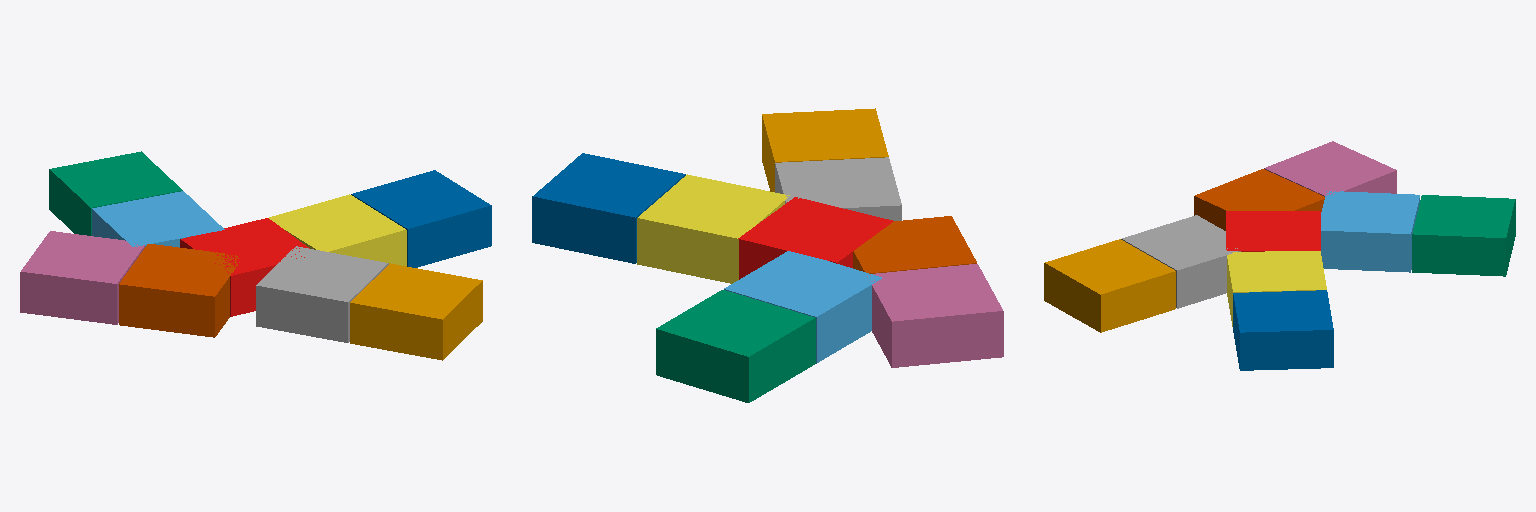
The robot description file, URDF, robot "Model_Models/Model_140.urdf41":
<?xml version='1.0' encoding='UTF-8'?>
<robot name="Model_Models/Model_140.urdf41">
  <link name="base_link">
    <inertial>
      <origin xyz="0.0 0.0 0.0" rpy="0.0 -0.0 0.0"/>
      <mass value="1.0"/>
      <inertia ixx="1.0" ixy="0.0" ixz="0.0" iyy="1.0" iyz="0.0" izz="1.0"/>
    </inertial>
    <visual>
      <geometry>
        <box size="0.67 0.67 0.3 "/>
      </geometry>
      <material name="red"/>
      <origin xyz="0.0 0.0 0.0" rpy="0.0 -0.0 0.0"/>
    </visual>
    <collision>
      <geometry>
        <box size="0.67 0.67 0.3 "/>
      </geometry>
      <origin xyz="0.0 0.0 0.0" rpy="0.0 0.0 0.0"/>
    </collision>
  </link>
  <link name="arm_0_arm1">
    <inertial>
      <origin xyz="0.0 0.34 0.0" rpy="0.0 0.0 0.0"/>
      <mass value="1.0"/>
      <inertia ixx="0.0" ixy="0.0" ixz="0.0" iyy="0.0" iyz="0.0" izz="0.0"/>
    </inertial>
    <visual>
      <geometry>
        <box size="0.67 0.67 0.3 "/>
      </geometry>
      <origin xyz="0.0 0.34 0.0" rpy="0.0 0.0 0.0"/>
    </visual>
    <collision>
      <geometry>
        <box size="0.67 0.67 0.3 "/>
      </geometry>
      <origin xyz="0.0 0.34 0.0" rpy="0.0 0.0 0.0"/>
    </collision>
  </link>
  <link name="arm_0_arm2">
    <inertial>
      <origin xyz="0.0 0.34 0.0" rpy="0.0 0.0 0.0"/>
      <mass value="1.0"/>
      <inertia ixx="0.0" ixy="0.0" ixz="0.0" iyy="0.0" iyz="0.0" izz="0.0"/>
    </inertial>
    <visual>
      <geometry>
        <box size="0.67 0.67 0.3 "/>
      </geometry>
      <origin xyz="0.0 0.34 0.0" rpy="0.0 0.0 0.0"/>
    </visual>
    <collision>
      <geometry>
        <box size="0.67 0.67 0.3 "/>
      </geometry>
      <origin xyz="0.0 0.34 0.0" rpy="0.0 0.0 0.0"/>
    </collision>
  </link>
  <link name="arm_2_arm1">
    <inertial>
      <origin xyz="0.0 0.34 0.0" rpy="0.0 0.0 0.0"/>
      <mass value="1.0"/>
      <inertia ixx="0.0" ixy="0.0" ixz="0.0" iyy="0.0" iyz="0.0" izz="0.0"/>
    </inertial>
    <visual>
      <geometry>
        <box size="0.67 0.67 0.3 "/>
      </geometry>
      <origin xyz="0.0 0.34 0.0" rpy="0.0 0.0 0.0"/>
    </visual>
    <collision>
      <geometry>
        <box size="0.67 0.67 0.3 "/>
      </geometry>
      <origin xyz="0.0 0.34 0.0" rpy="0.0 0.0 0.0"/>
    </collision>
  </link>
  <link name="arm_2_arm2">
    <inertial>
      <origin xyz="0.0 0.34 0.0" rpy="0.0 0.0 0.0"/>
      <mass value="1.0"/>
      <inertia ixx="0.0" ixy="0.0" ixz="0.0" iyy="0.0" iyz="0.0" izz="0.0"/>
    </inertial>
    <visual>
      <geometry>
        <box size="0.67 0.67 0.3 "/>
      </geometry>
      <origin xyz="0.0 0.34 0.0" rpy="0.0 0.0 0.0"/>
    </visual>
    <collision>
      <geometry>
        <box size="0.67 0.67 0.3 "/>
      </geometry>
      <origin xyz="0.0 0.34 0.0" rpy="0.0 0.0 0.0"/>
    </collision>
  </link>
  <link name="arm_3_arm1">
    <inertial>
      <origin xyz="0.0 0.34 0.0" rpy="0.0 0.0 0.0"/>
      <mass value="1.0"/>
      <inertia ixx="0.0" ixy="0.0" ixz="0.0" iyy="0.0" iyz="0.0" izz="0.0"/>
    </inertial>
    <visual>
      <geometry>
        <box size="0.67 0.67 0.3 "/>
      </geometry>
      <origin xyz="0.0 0.34 0.0" rpy="0.0 0.0 0.0"/>
    </visual>
    <collision>
      <geometry>
        <box size="0.67 0.67 0.3 "/>
      </geometry>
      <origin xyz="0.0 0.34 0.0" rpy="0.0 0.0 0.0"/>
    </collision>
  </link>
  <link name="arm_3_arm2">
    <inertial>
      <origin xyz="0.0 0.34 0.0" rpy="0.0 0.0 0.0"/>
      <mass value="1.0"/>
      <inertia ixx="0.0" ixy="0.0" ixz="0.0" iyy="0.0" iyz="0.0" izz="0.0"/>
    </inertial>
    <visual>
      <geometry>
        <box size="0.67 0.67 0.3 "/>
      </geometry>
      <origin xyz="0.0 0.34 0.0" rpy="0.0 0.0 0.0"/>
    </visual>
    <collision>
      <geometry>
        <box size="0.67 0.67 0.3 "/>
      </geometry>
      <origin xyz="0.0 0.34 0.0" rpy="0.0 0.0 0.0"/>
    </collision>
  </link>
  <link name="arm_Permutation_41_arm1">
    <inertial>
      <origin xyz="0.0 0.34 0.0" rpy="0.0 0.0 0.0"/>
      <mass value="1.0"/>
      <inertia ixx="0.0" ixy="0.0" ixz="0.0" iyy="0.0" iyz="0.0" izz="0.0"/>
    </inertial>
    <visual>
      <geometry>
        <box size="0.67 0.67 0.3 "/>
      </geometry>
      <origin xyz="0.0 0.34 0.0" rpy="0.0 0.0 0.0"/>
    </visual>
    <collision>
      <geometry>
        <box size="0.67 0.67 0.3 "/>
      </geometry>
      <origin xyz="0.0 0.34 0.0" rpy="0.0 0.0 0.0"/>
    </collision>
  </link>
  <link name="arm_Permutation_41_arm2">
    <inertial>
      <origin xyz="0.0 0.34 0.0" rpy="0.0 0.0 0.0"/>
      <mass value="1.0"/>
      <inertia ixx="0.0" ixy="0.0" ixz="0.0" iyy="0.0" iyz="0.0" izz="0.0"/>
    </inertial>
    <visual>
      <geometry>
        <box size="0.67 0.67 0.3 "/>
      </geometry>
      <origin xyz="0.0 0.34 0.0" rpy="0.0 0.0 0.0"/>
    </visual>
    <collision>
      <geometry>
        <box size="0.67 0.67 0.3 "/>
      </geometry>
      <origin xyz="0.0 0.34 0.0" rpy="0.0 0.0 0.0"/>
    </collision>
  </link>
  <joint name="arm_0_jointBase" type="fixed">
    <limit effort="1.57" velocity="1.57" lower="-1.57" upper="1.57"/>
    <parent link="base_link"/>
    <child link="arm_0_arm1"/>
    <axis xyz="1. 0. 0."/>
    <origin xyz="-0.34 0.34 0.0" rpy="0.0 0.0 -0.09999999999999998"/>
  </joint>
  <joint name="arm_0_joint1" type="revolute">
    <limit effort="1.57" velocity="1.57" lower="-1.57" upper="1.57"/>
    <parent link="arm_0_arm1"/>
    <child link="arm_0_arm2"/>
    <axis xyz="1. 0. 0."/>
    <origin xyz="0.0 0.68 0.0" rpy="0.0 0.0 0.0"/>
  </joint>
  <joint name="arm_2_jointBase" type="fixed">
    <limit effort="1.57" velocity="1.57" lower="-1.57" upper="1.57"/>
    <parent link="base_link"/>
    <child link="arm_2_arm1"/>
    <axis xyz="1. 0. 0."/>
    <origin xyz="0.34 0.0 0.0" rpy="0.0 0.0 -1.5"/>
  </joint>
  <joint name="arm_2_joint1" type="revolute">
    <limit effort="1.57" velocity="1.57" lower="-1.57" upper="1.57"/>
    <parent link="arm_2_arm1"/>
    <child link="arm_2_arm2"/>
    <axis xyz="1. 0. 0."/>
    <origin xyz="0.0 0.68 0.0" rpy="0.0 0.0 0.0"/>
  </joint>
  <joint name="arm_3_jointBase" type="fixed">
    <limit effort="1.57" velocity="1.57" lower="-1.57" upper="1.57"/>
    <parent link="base_link"/>
    <child link="arm_3_arm1"/>
    <axis xyz="1. 0. 0."/>
    <origin xyz="-0.34 -0.34 0.0" rpy="0.0 0.0 0.75"/>
  </joint>
  <joint name="arm_3_joint1" type="revolute">
    <limit effort="1.57" velocity="1.57" lower="-1.57" upper="1.57"/>
    <parent link="arm_3_arm1"/>
    <child link="arm_3_arm2"/>
    <axis xyz="1. 0. 0."/>
    <origin xyz="0.0 0.68 0.0" rpy="0.0 0.0 0.0"/>
  </joint>
  <joint name="arm_Permutation_41_jointBase" type="fixed">
    <limit effort="1.57" velocity="1.57" lower="-1.57" upper="1.57"/>
    <parent link="base_link"/>
    <child link="arm_Permutation_41_arm1"/>
    <axis xyz="1. 0. 0."/>
    <origin xyz="0.0 -0.34 0.0" rpy="0.0 0.0 -2.503185307179587"/>
  </joint>
  <joint name="arm_Permutation_41_joint1" type="revolute">
    <limit effort="1.57" velocity="1.57" lower="-1.57" upper="1.57"/>
    <parent link="arm_Permutation_41_arm1"/>
    <child link="arm_Permutation_41_arm2"/>
    <axis xyz="1. 0. 0."/>
    <origin xyz="0.0 0.68 0.0" rpy="0.0 0.0 0.0"/>
  </joint>
  <material name="red">
    <color rgba="0.969 0.129 0.122 1.   "/>
  </material>
</robot>

--- What the picture shows (computed from the rendered views, not written in the file) ---
The picture shows the robot from 3 angles, left to right: view 1: azimuth 30°, elevation 25°; view 2: azimuth 150°, elevation 25°; view 3: azimuth 270°, elevation 25°; orthographic projection.
Robot: Model_Models/Model_140.urdf41 — 9 links, 8 joints (4 revolute, 4 fixed); root link base_link; default pose: all joints at 0.
Links seen in each view (by area): view 1: arm_Permutation_41_arm2, arm_3_arm1, arm_3_arm2, arm_Permutation_41_arm1, arm_2_arm2, arm_0_arm2, arm_2_arm1, arm_0_arm1, base_link; view 2: arm_0_arm2, arm_3_arm2, arm_2_arm2, arm_2_arm1, arm_0_arm1, base_link, arm_Permutation_41_arm2, arm_Permutation_41_arm1, arm_3_arm1; view 3: arm_Permutation_41_arm2, arm_0_arm2, arm_2_arm2, arm_0_arm1, arm_Permutation_41_arm1, arm_3_arm2, arm_3_arm1, arm_2_arm1, base_link.
Link boxes in pixels (bbox=[...]): arm_Permutation_41_arm2: bbox=[350, 263, 482, 360]; arm_3_arm1: bbox=[119, 244, 239, 337]; arm_3_arm2: bbox=[20, 231, 144, 324]; arm_Permutation_41_arm1: bbox=[256, 246, 388, 342]; arm_2_arm2: bbox=[351, 170, 491, 267]; arm_0_arm2: bbox=[49, 151, 182, 235]; arm_2_arm1: bbox=[269, 194, 406, 265]; arm_0_arm1: bbox=[92, 191, 224, 247]; base_link: bbox=[180, 218, 309, 316]; arm_0_arm2: bbox=[656, 290, 815, 402]; arm_3_arm2: bbox=[867, 264, 1003, 367]; arm_2_arm2: bbox=[532, 153, 685, 263]; arm_2_arm1: bbox=[637, 174, 789, 283]; arm_0_arm1: bbox=[724, 251, 881, 363]; base_link: bbox=[738, 197, 893, 279]; arm_Permutation_41_arm2: bbox=[762, 108, 888, 191]; arm_Permutation_41_arm1: bbox=[775, 157, 901, 220]; arm_3_arm1: bbox=[853, 216, 976, 273]; arm_Permutation_41_arm2: bbox=[1044, 239, 1175, 332]; arm_0_arm2: bbox=[1412, 195, 1515, 276]; arm_2_arm2: bbox=[1233, 290, 1333, 370]; arm_0_arm1: bbox=[1321, 191, 1419, 272]; arm_Permutation_41_arm1: bbox=[1121, 215, 1240, 308]; arm_3_arm2: bbox=[1264, 141, 1396, 196]; arm_3_arm1: bbox=[1194, 169, 1324, 230]; arm_2_arm1: bbox=[1227, 251, 1326, 326]; base_link: bbox=[1226, 211, 1320, 251].
Bounding box of the posed robot: 3.22 × 3.35 × 0.3 m (x, y, z).
Geometry: primitives only (box / cylinder / sphere), no mesh files.